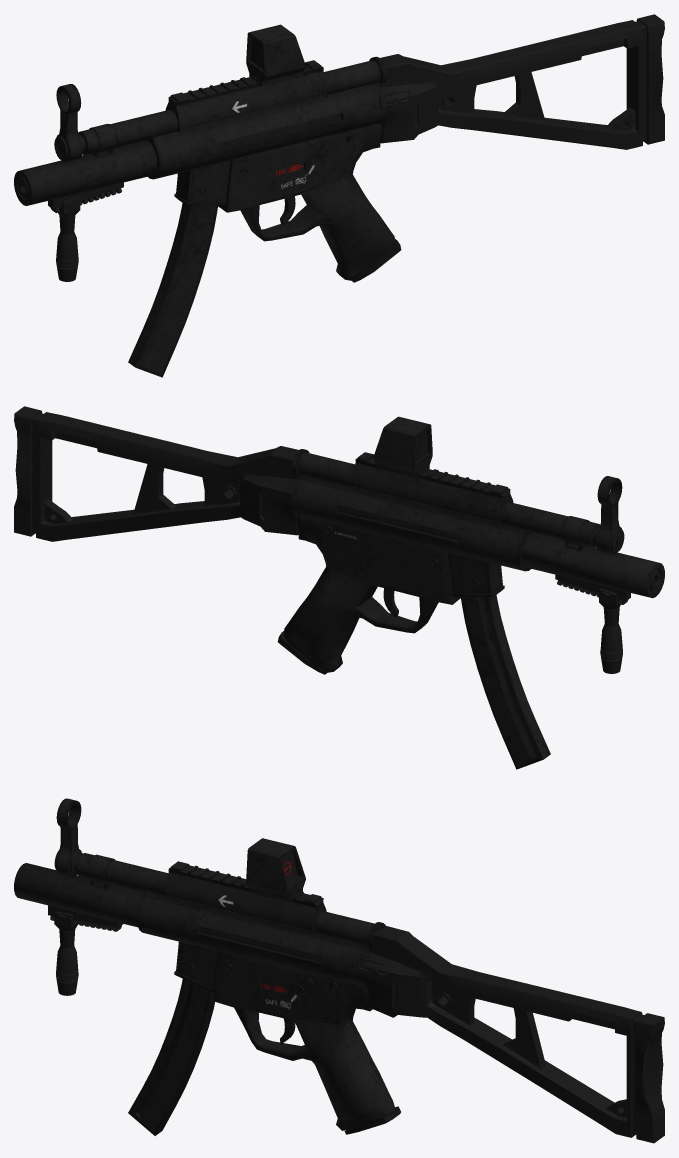
File: gun.obj
3 renders of one model, top to bottom at view 1: azimuth 30°, elevation 25°; view 2: azimuth 150°, elevation 25°; view 3: azimuth 330°, elevation 25°, orthographic.
Parts seen in each view (by area): view 1: low_export_final; view 2: low_export_final; view 3: low_export_final.
Part boxes in pixels (x1=…): low_export_final: x1=14, y1=14, x2=664, y2=377; low_export_final: x1=14, y1=406, x2=664, y2=769; low_export_final: x1=14, y1=798, x2=664, y2=1143.
Size of the model in its own units: 111 by 52.36 by 7.4.
